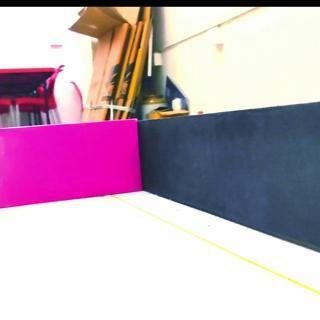xparking: (0, 127, 141, 200)
